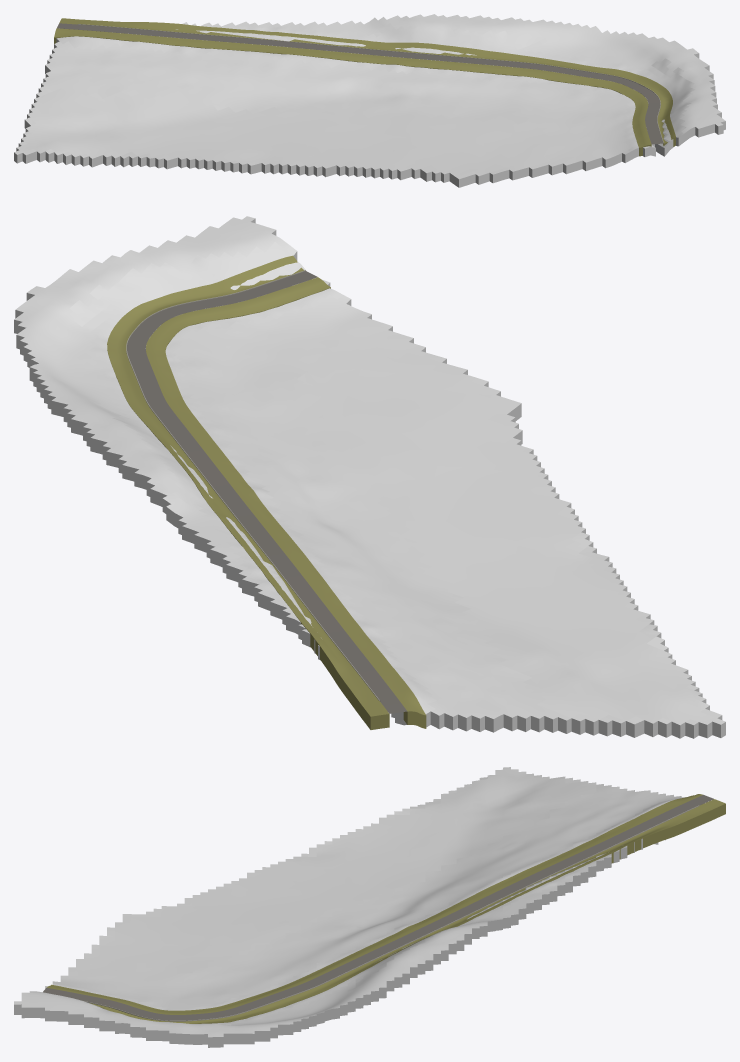
File: conz_63.glb
3 renders of one model, top to bottom at view 1: azimuth 30°, elevation 25°; view 2: azimuth 150°, elevation 25°; view 3: azimuth 270°, elevation 25°, orthographic. The views are drawn at different scales.
Visible parts, largest first — view 1: terrain63, verge63L, verge63R, road63, kerb63_50410; view 2: terrain63, verge63L, verge63R, road63, kerb63_50410; view 3: terrain63, road63, verge63R, verge63L, kerb63_50410.
Part boxes in pixels (bbox=[...]): terrain63: bbox=[14, 14, 725, 187]; verge63L: bbox=[54, 28, 651, 156]; verge63R: bbox=[59, 18, 675, 146]; road63: bbox=[57, 23, 663, 144]; kerb63_50410: bbox=[77, 24, 663, 142]; terrain63: bbox=[14, 216, 725, 738]; verge63L: bbox=[146, 277, 426, 728]; verge63R: bbox=[107, 255, 389, 729]; road63: bbox=[127, 271, 407, 713]; kerb63_50410: bbox=[126, 270, 380, 701]; terrain63: bbox=[14, 767, 686, 1047]; road63: bbox=[43, 795, 713, 1020]; verge63R: bbox=[89, 799, 725, 1023]; verge63L: bbox=[46, 794, 702, 1014]; kerb63_50410: bbox=[83, 805, 699, 1021].
Size of the model in its own units: 204 by 21.93 by 183.
